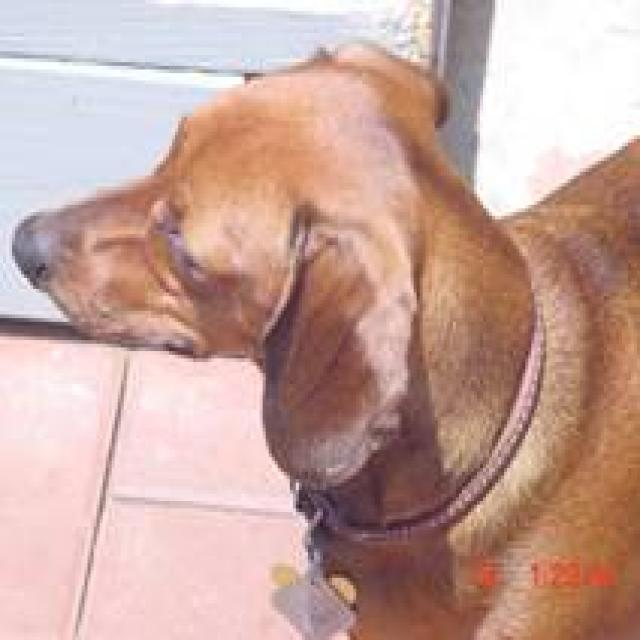Dog: (12, 27, 489, 540)
